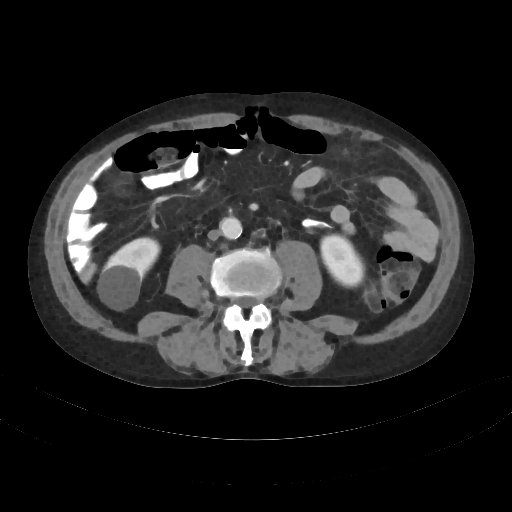Lesion: (97, 263, 143, 313)
